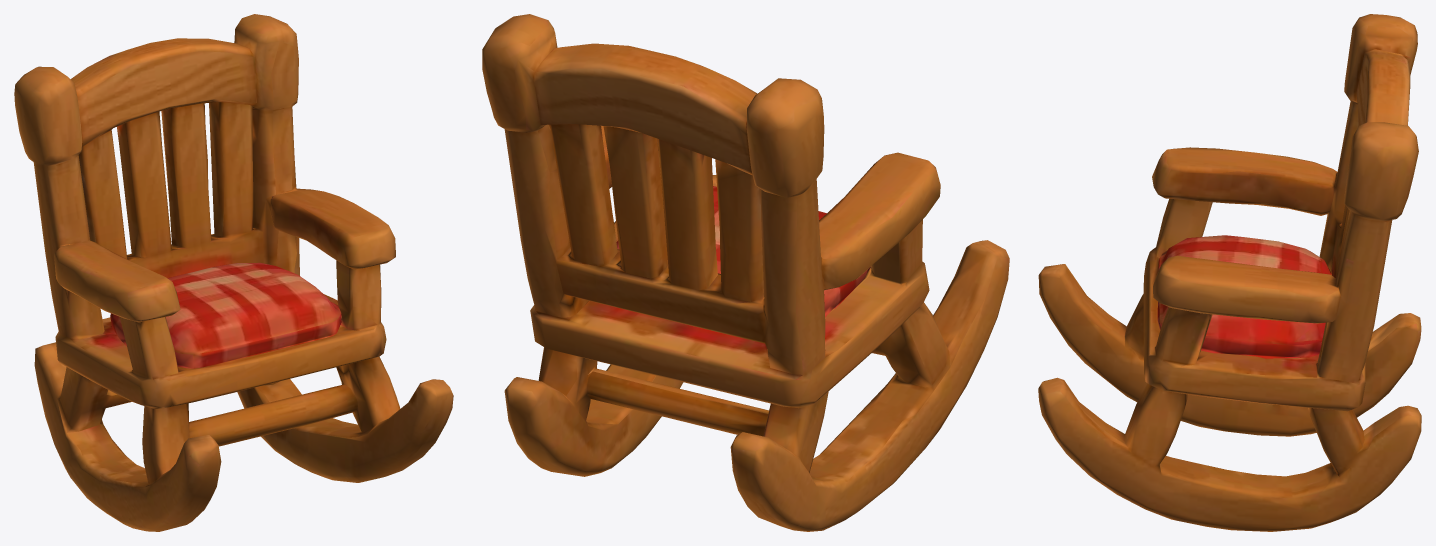
The model's file is rocking_chair.glb.
3 renders of one model, left to right at view 1: azimuth 30°, elevation 25°; view 2: azimuth 150°, elevation 25°; view 3: azimuth 270°, elevation 25°, orthographic. The views are drawn at different scales.
Parts seen in each view (by area): view 1: textured_mesh.obj; view 2: textured_mesh.obj; view 3: textured_mesh.obj.
Part boxes in pixels (<box>): textured_mesh.obj: <box>14,14,453,531</box>; textured_mesh.obj: <box>482,14,1009,531</box>; textured_mesh.obj: <box>1038,14,1421,531</box>.
Size of what is drawn, in the model's own units: 0.8028 by 1.1 by 0.9389.
Materials: 1 (1 with a texture image).
